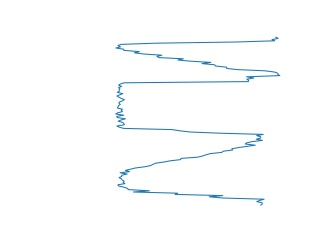distributaryChannelFill: (112, 71, 267, 143)
mouthBar: (113, 36, 284, 77)
underwaterDistributaryChannel: (114, 137, 268, 208)
